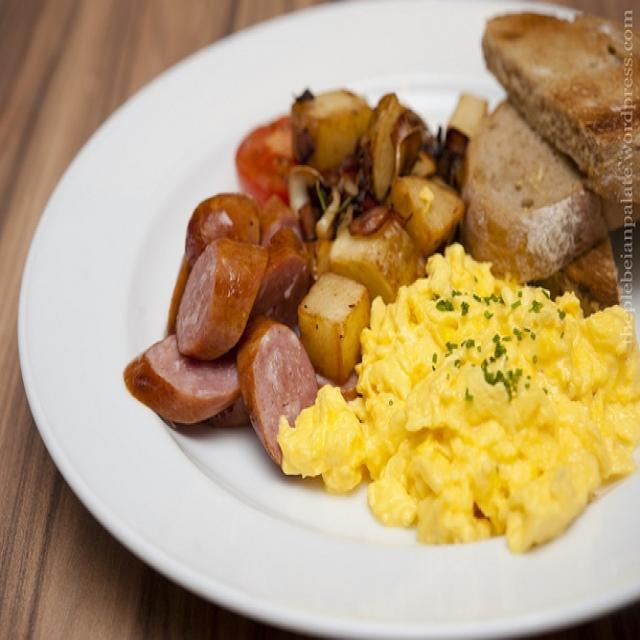鸡蛋料理: (49, 17, 630, 610)
